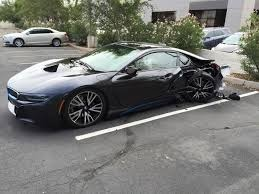Smashed: (172, 54, 222, 101)
